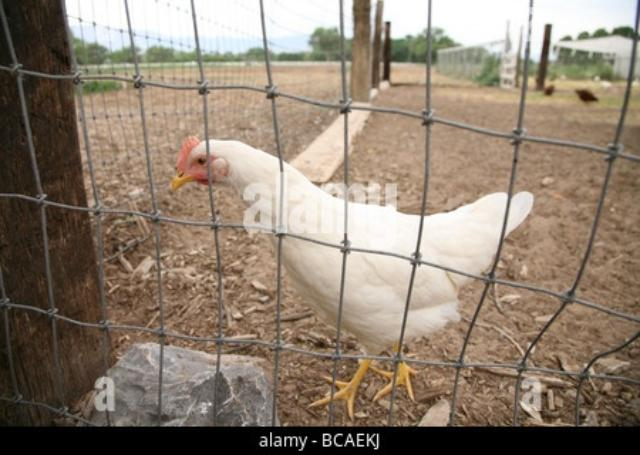Chicken: (171, 135, 534, 418)
